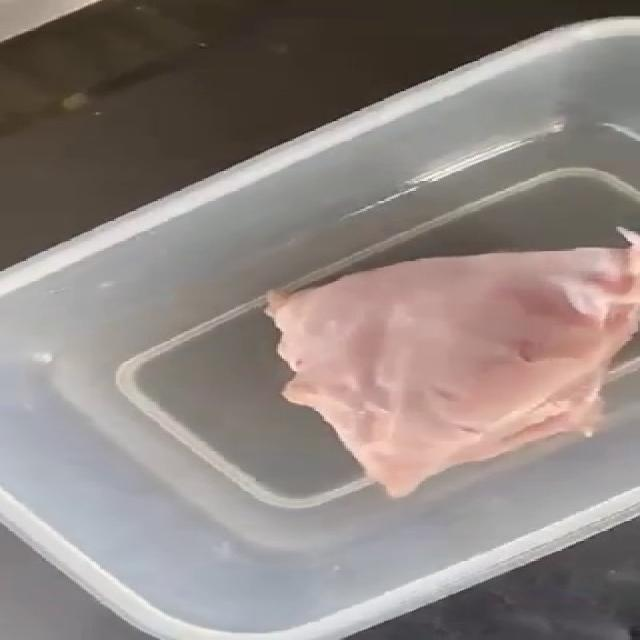chicken: (264, 238, 640, 506)
